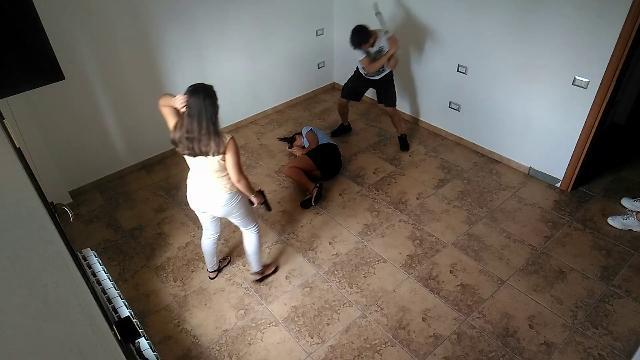non-violence: (156, 80, 282, 286)
violence: (283, 2, 413, 206)
weapon: (250, 190, 271, 214)
